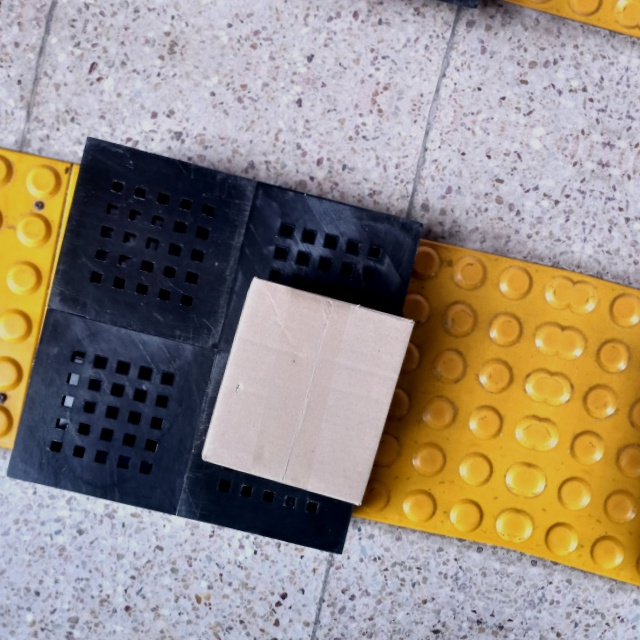box: (199, 272, 417, 510)
pallet: (2, 124, 435, 565)
